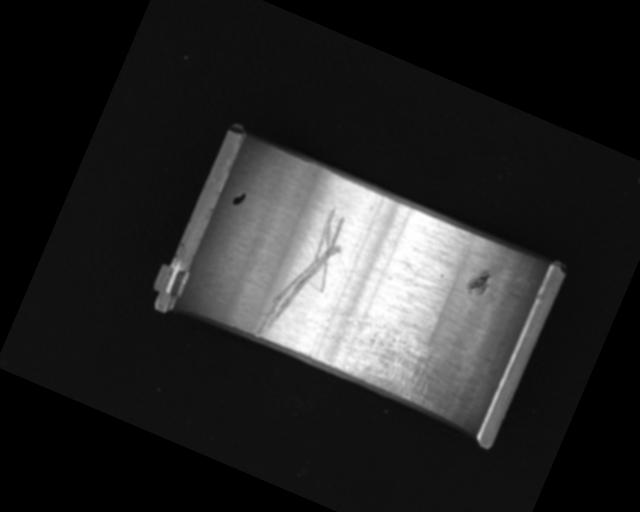blot: (230, 188, 249, 209)
bruise: (464, 265, 495, 300)
nick: (252, 197, 356, 355)
scratch: (311, 297, 455, 410)
